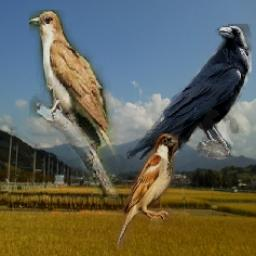Crow: (126, 25, 252, 161)
Cuckoo: (28, 11, 135, 199)
Sparrow: (116, 133, 177, 248)
